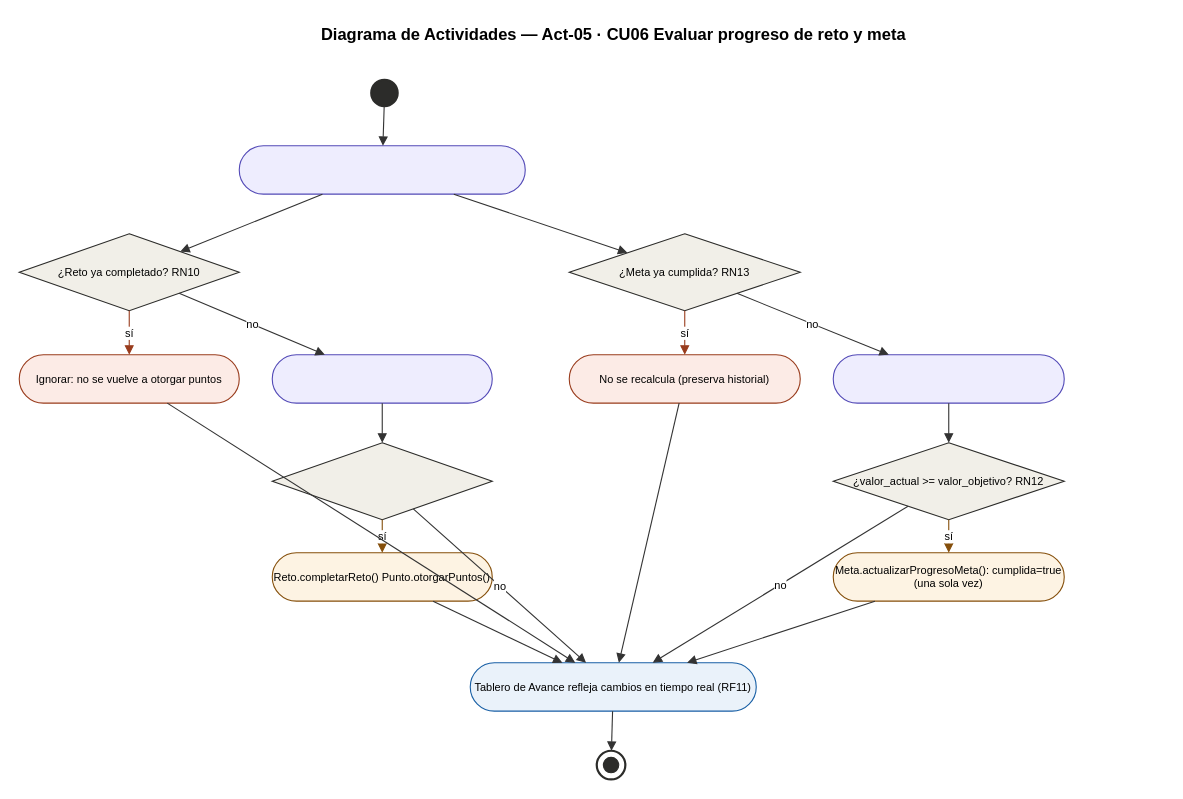
Some shapes in this 1183 by 799 pixel diagram are drawn without their labels. The shapes that lost their labels are listed below. From the top down, each one's box as (x1, y1, x2, y2) in pixels, then its label:
(238, 145, 525, 194): Actualizar progreso tras completar tarea/sesión
(271, 354, 492, 403): Reto.actualizarProgresoReto() Incrementar progreso del reto
(832, 354, 1064, 403): Meta.actualizarProgresoMeta() Actualizar valor_actual de la meta
(271, 442, 492, 520): ¿progreso alcanzó la condición?
